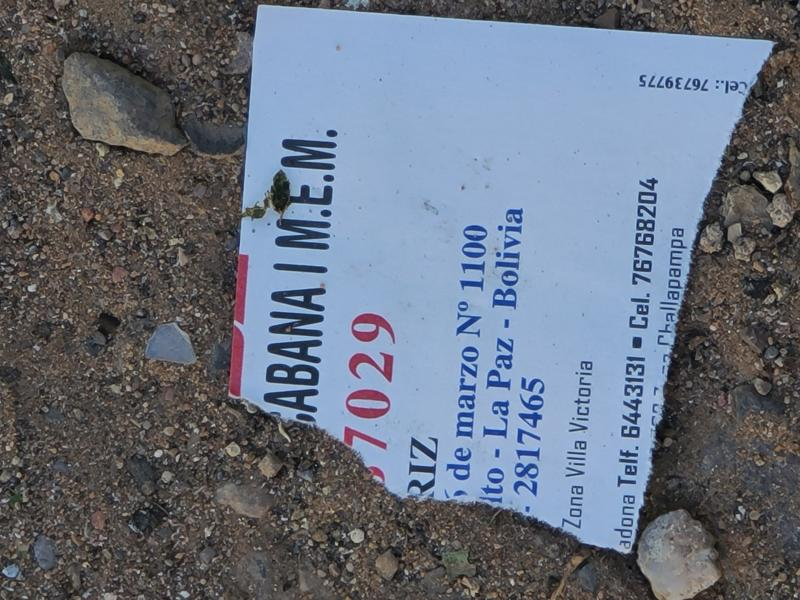papel: (227, 6, 774, 556)
